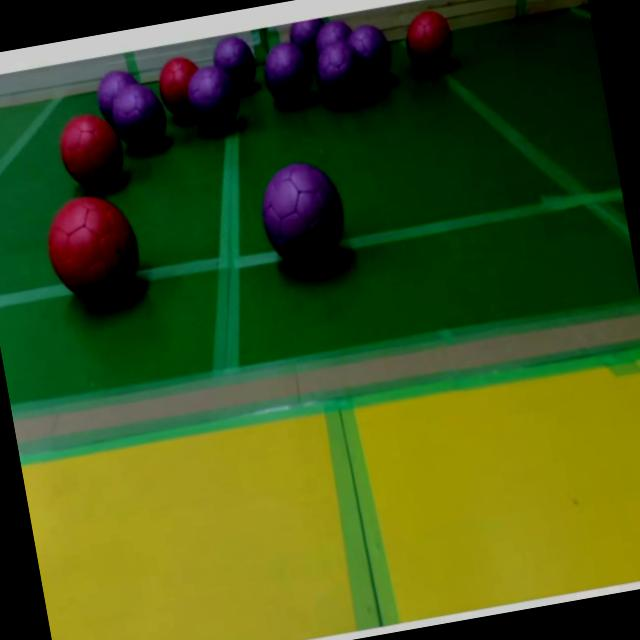purple_ball: (254, 156, 355, 280), (111, 82, 170, 153), (312, 41, 370, 112), (188, 66, 242, 134), (262, 38, 314, 108), (346, 22, 394, 84), (212, 36, 258, 93), (93, 67, 141, 119), (290, 18, 330, 62), (314, 19, 356, 52)
red_ball: (42, 190, 148, 310), (55, 111, 127, 195), (402, 9, 458, 77), (154, 56, 199, 119)
